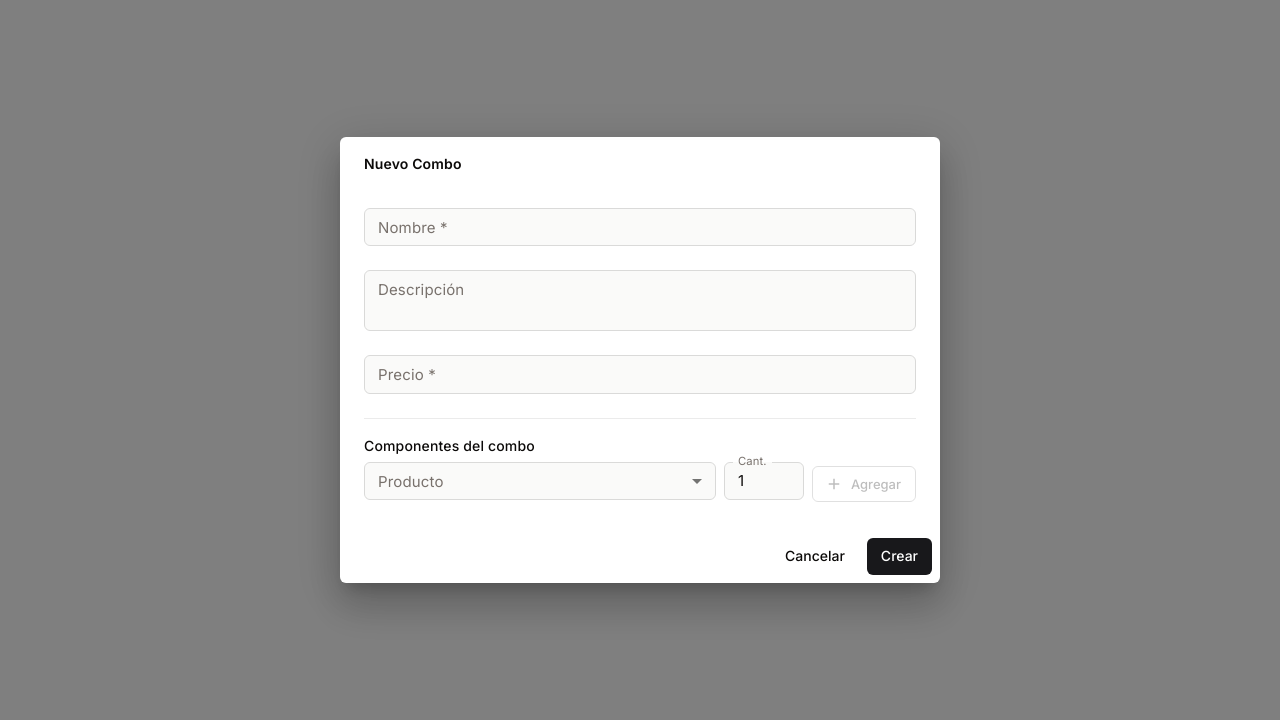
Scenario: ComboForm — create mode › shows validation error when fewer than 2 items added
Type "Mi Combo" into the field named "nombre combo".
click(640, 227); type("Mi Combo")  # box [364, 208, 916, 246]
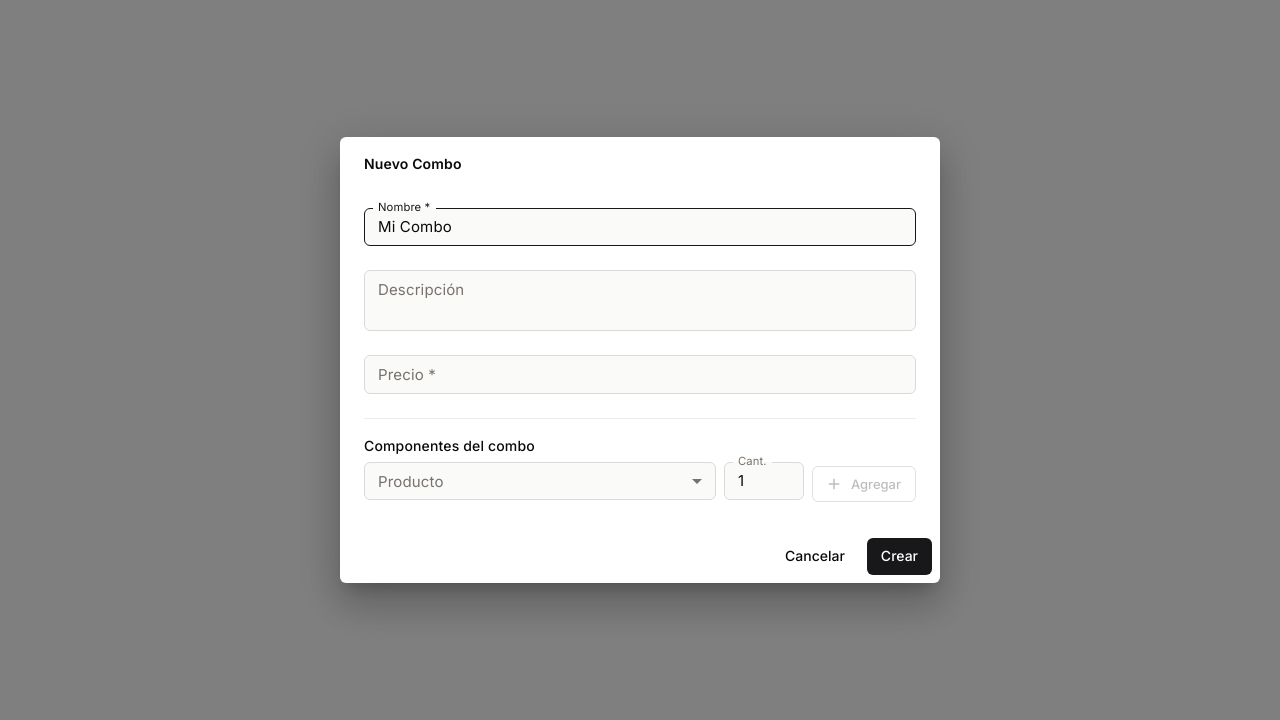
Type "50" into the number field named "precio combo".
click(640, 374); type("50")  # box [364, 355, 916, 394]
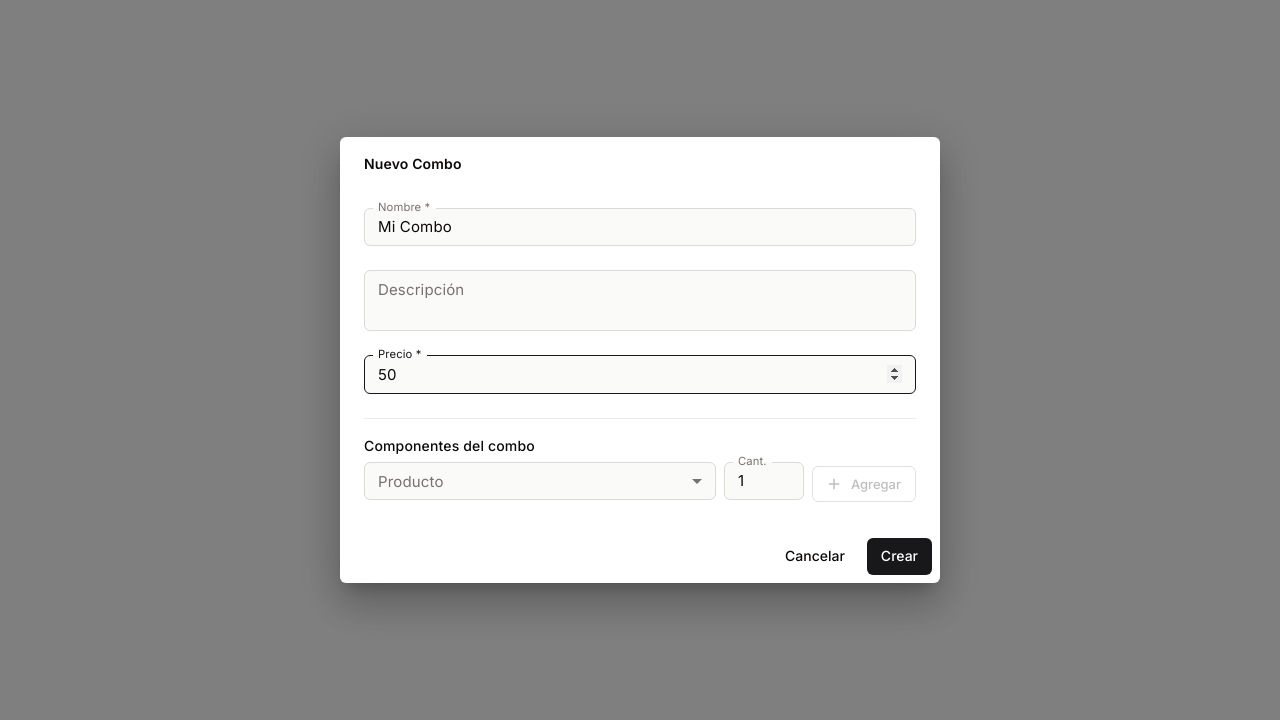
Click the button "Crear".
click(899, 557)  # box [867, 538, 932, 575]
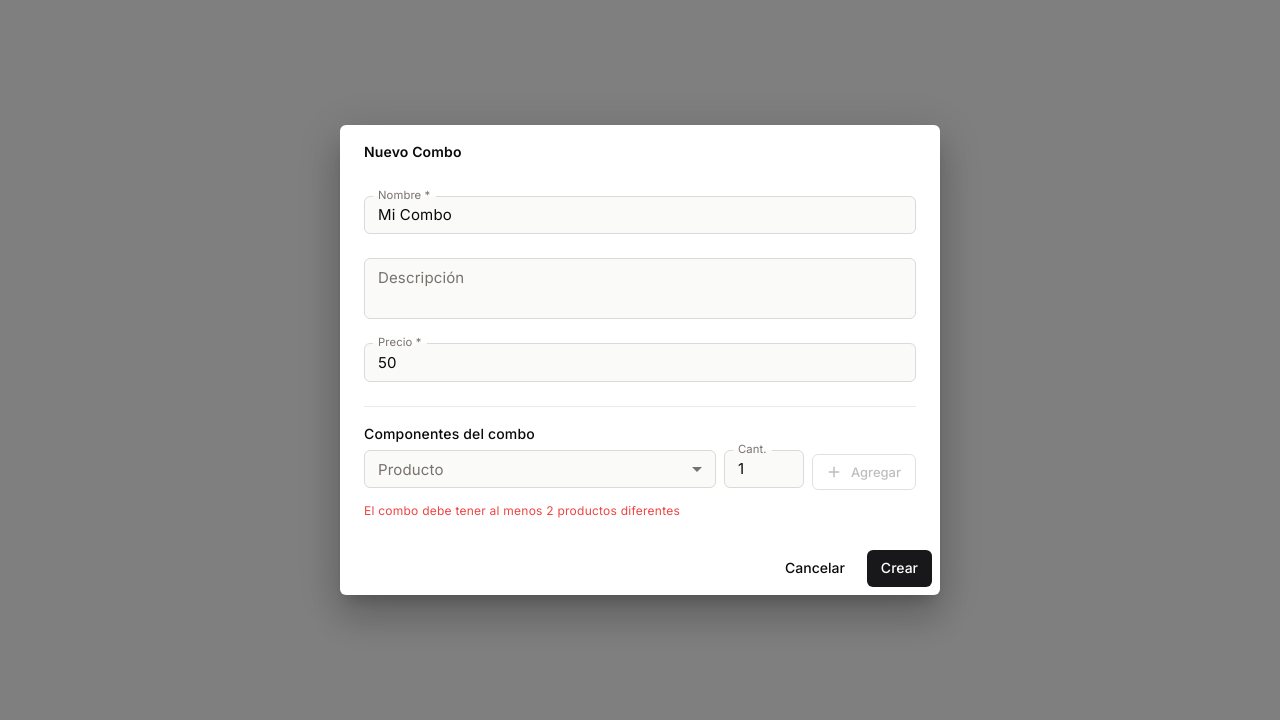
Check: the text "El combo debe tener al menos 2 productos diferentes" is shown, box [364, 503, 680, 518]
